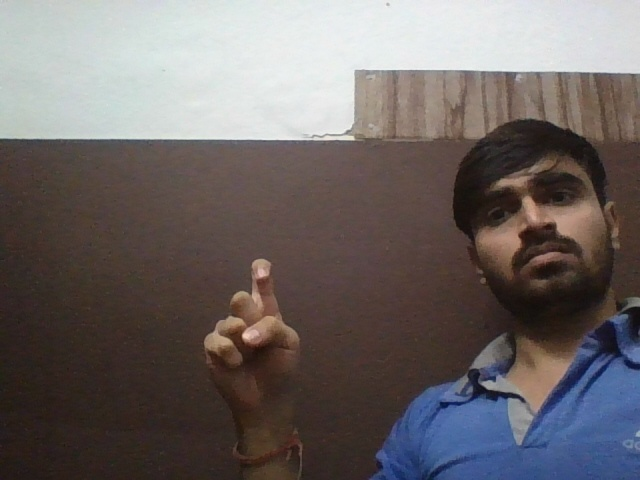X: (206, 249, 329, 410)
